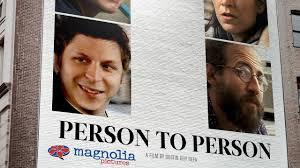Persons: (53, 13, 135, 118), (201, 37, 278, 140)
